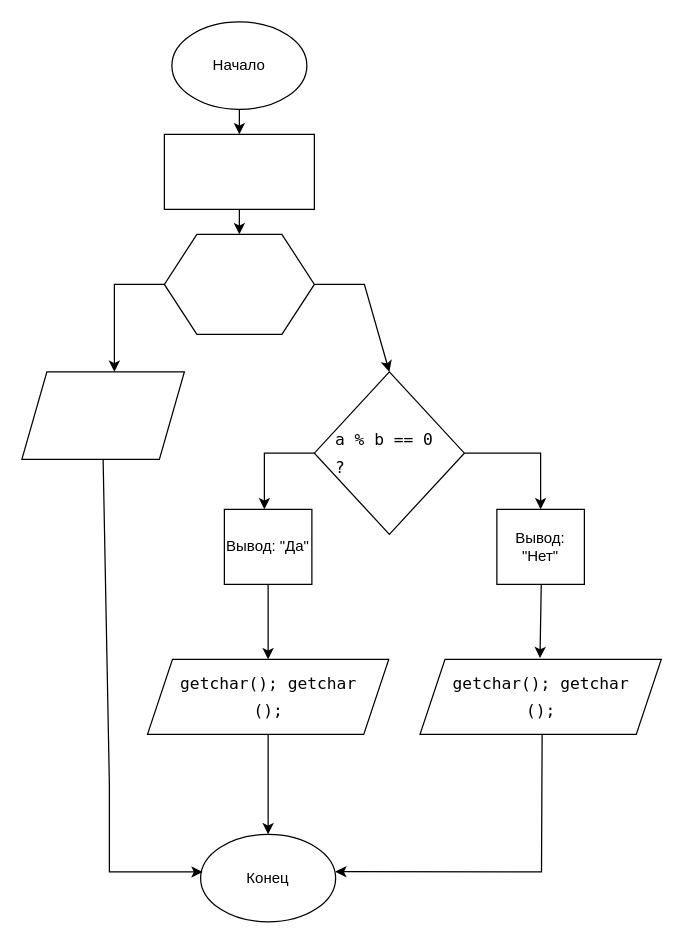
Some shapes in this 684 by 944 pixel diagram are drawn without their labels. Here are the shapes that lost their labels. From the top down, the box of each, then its label:
(163, 133, 314, 209): Ввод : a, b
(163, 233, 314, 334): b == 0 ?
(21, 371, 184, 459): Вывод:"Ошибка. Деление на 0 невозможно"
